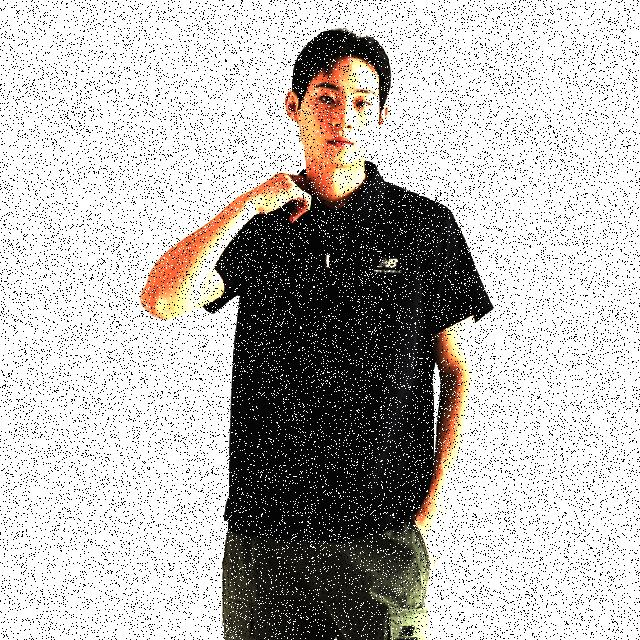dress: (175, 150, 516, 570)
